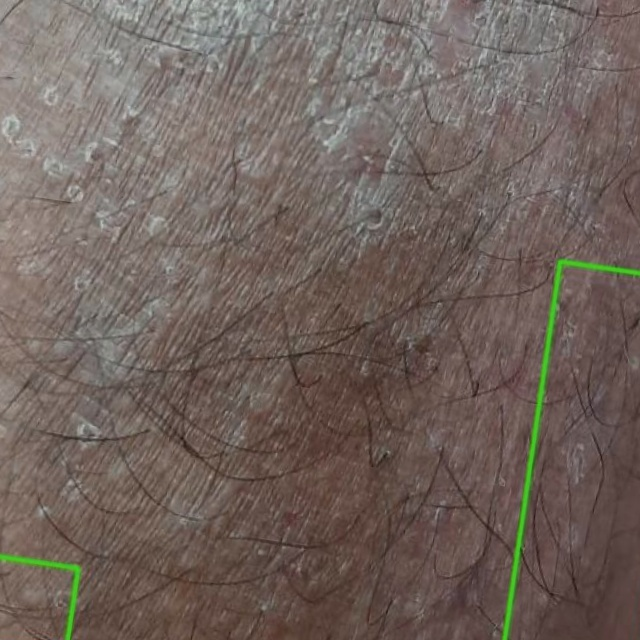Contact Dermatitis: (504, 261, 639, 639)
